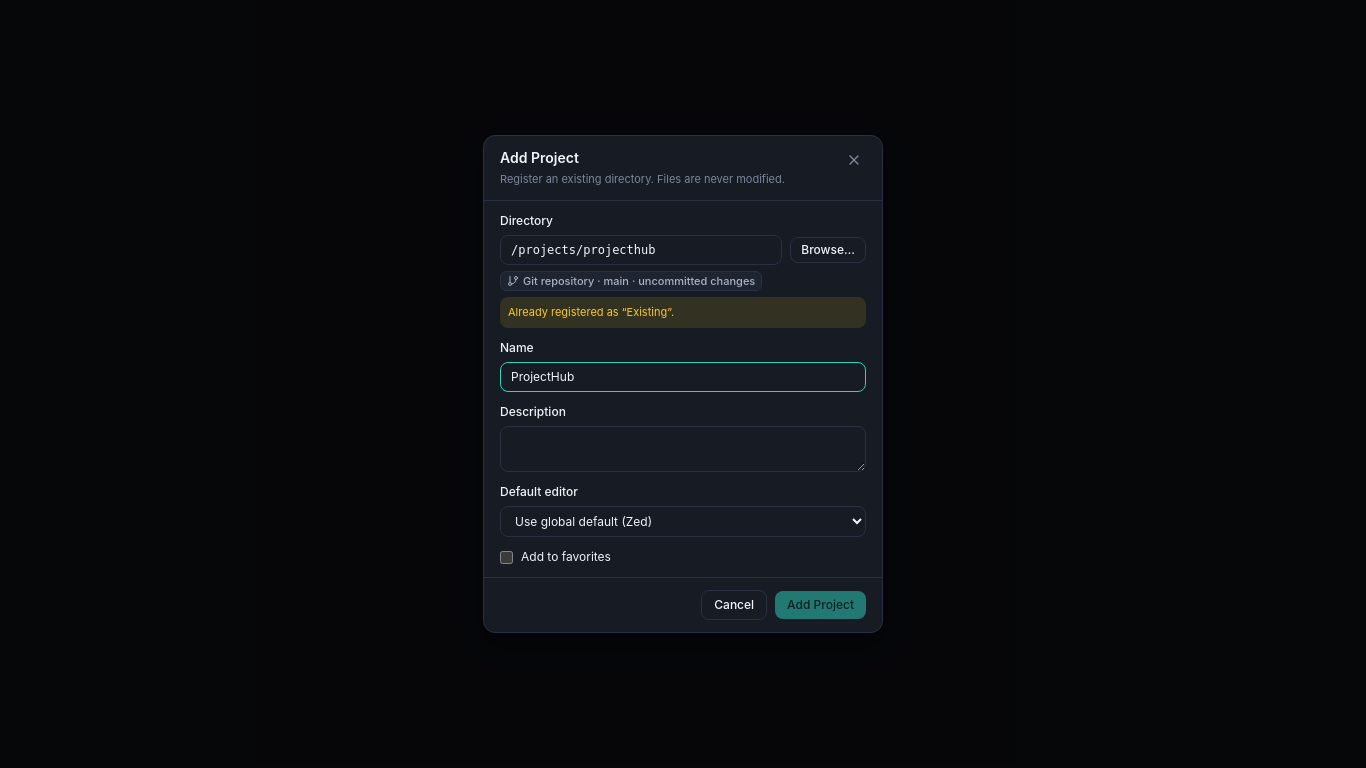
ProjectDialog › blocks duplicate drafts and clears their Git and duplicate information after manual path edits
Expected: the message "Already registered as “Existing”." is shown, [500,298,866,328]
Expected: the button "Add Project" is disabled, [775,591,866,619]
Replace the text in the field labelled "Directory" with "/projects/new" at (641, 250), box [500,235,782,265]
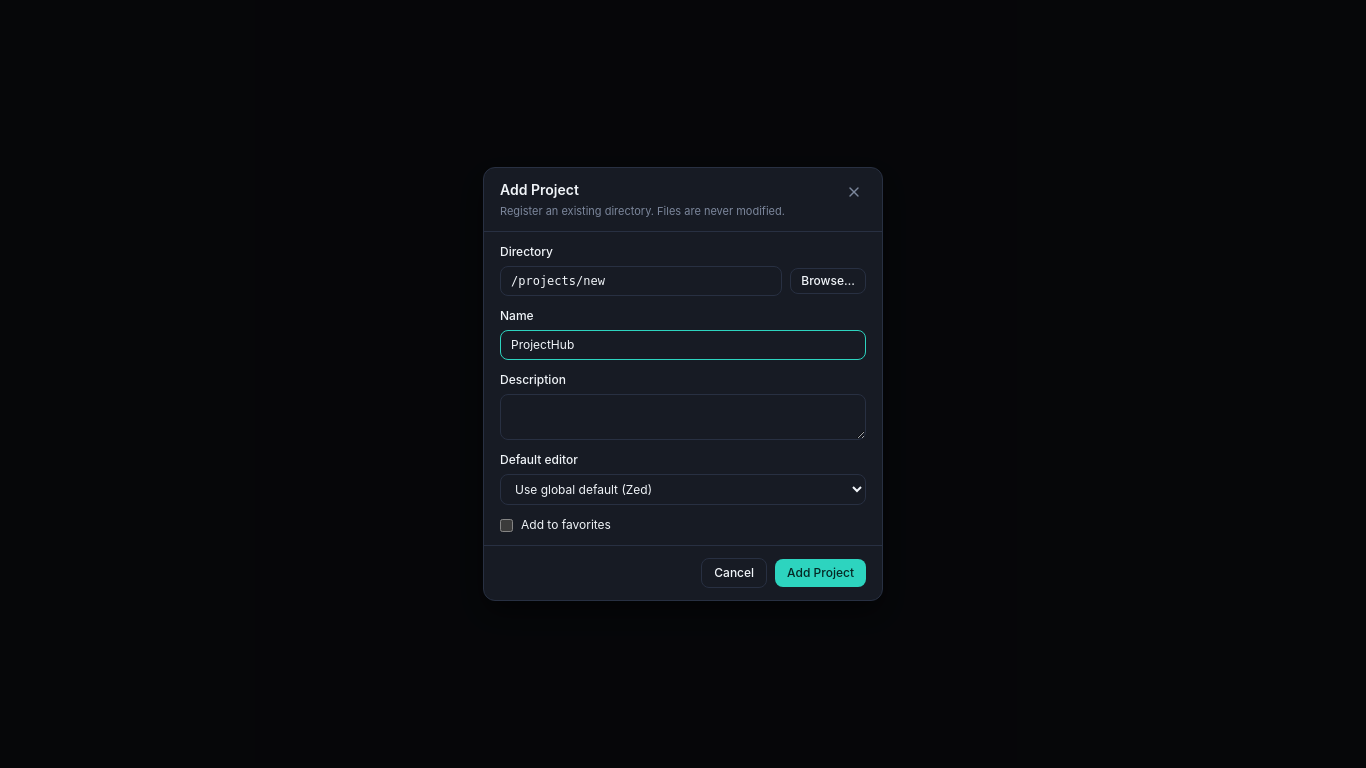
Result: the message "Already registered as “Existing”." is gone
Result: the text "Git repository" is gone
Result: the button "Add Project" is enabled at [775,560,866,588]
